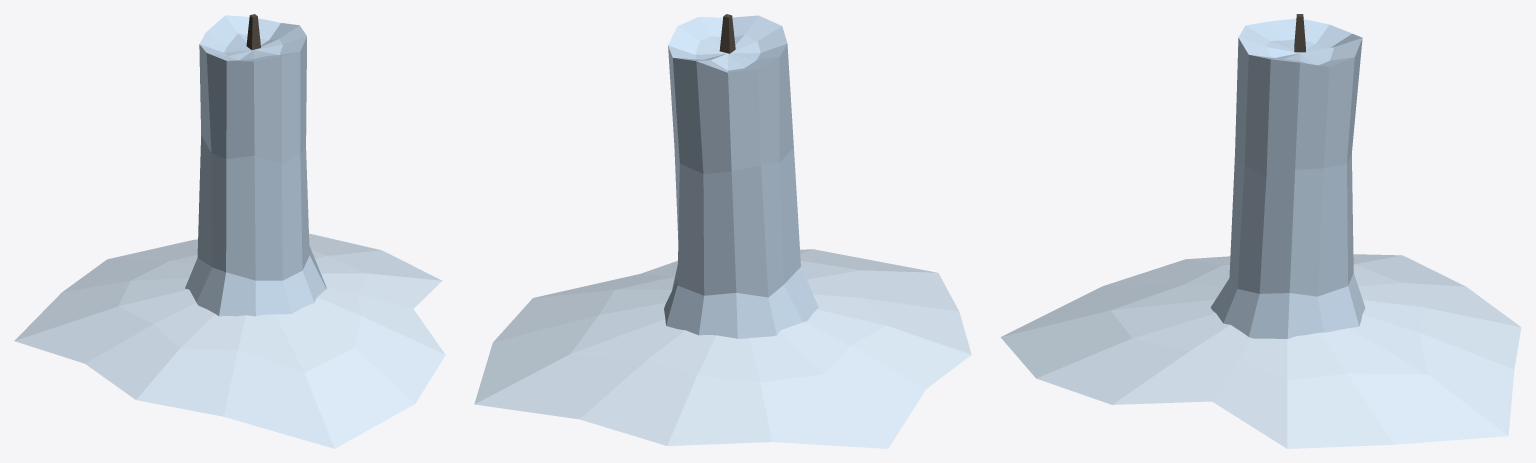
Rendered from Cosmetic_Candle.glb.
3 views of the same model, side by side, from view 1: azimuth 30°, elevation 25°; view 2: azimuth 150°, elevation 25°; view 3: azimuth 270°, elevation 25° (orthographic). The views are drawn at different scales.
Visible parts, largest first — view 1: Candle_Puddle, Candle_Body; view 2: Candle_Puddle, Candle_Body, Candle_Wick; view 3: Candle_Puddle, Candle_Body.
Boxes of the visible parts, x1,y1,x2,y2 form: Candle_Puddle: (14,233,445,448); Candle_Body: (185,15,326,316); Candle_Puddle: (474,249,971,448); Candle_Body: (664,15,818,338); Candle_Wick: (719,14,735,53); Candle_Puddle: (1000,254,1521,448); Candle_Body: (1210,18,1365,338).
Size of the model in its own units: 0.2751 by 0.2238 by 0.3007.
